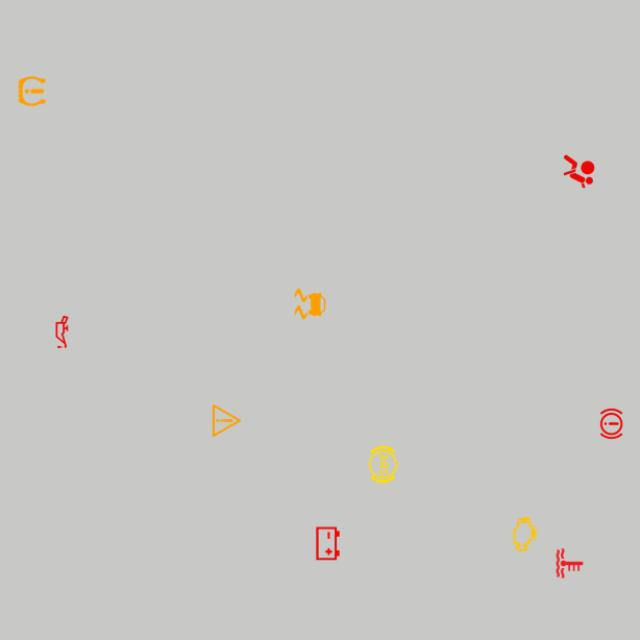Anti Lock Braking System: (363, 444, 403, 485)
Braking System Issue: (591, 403, 632, 444)
Charging System Issue: (308, 523, 348, 564)
Check Engine: (505, 514, 545, 554)
Electronic Stability Problem -ESP-: (290, 284, 330, 324)
Engine Overheating Warning Light: (549, 543, 590, 584)
Low Engine Oil Warning Light: (42, 312, 82, 352)
Low Tire Pressure Warning Light: (12, 71, 52, 111)
Master warning light: (206, 400, 247, 441)
SRS-Airbag: (559, 151, 599, 192)
